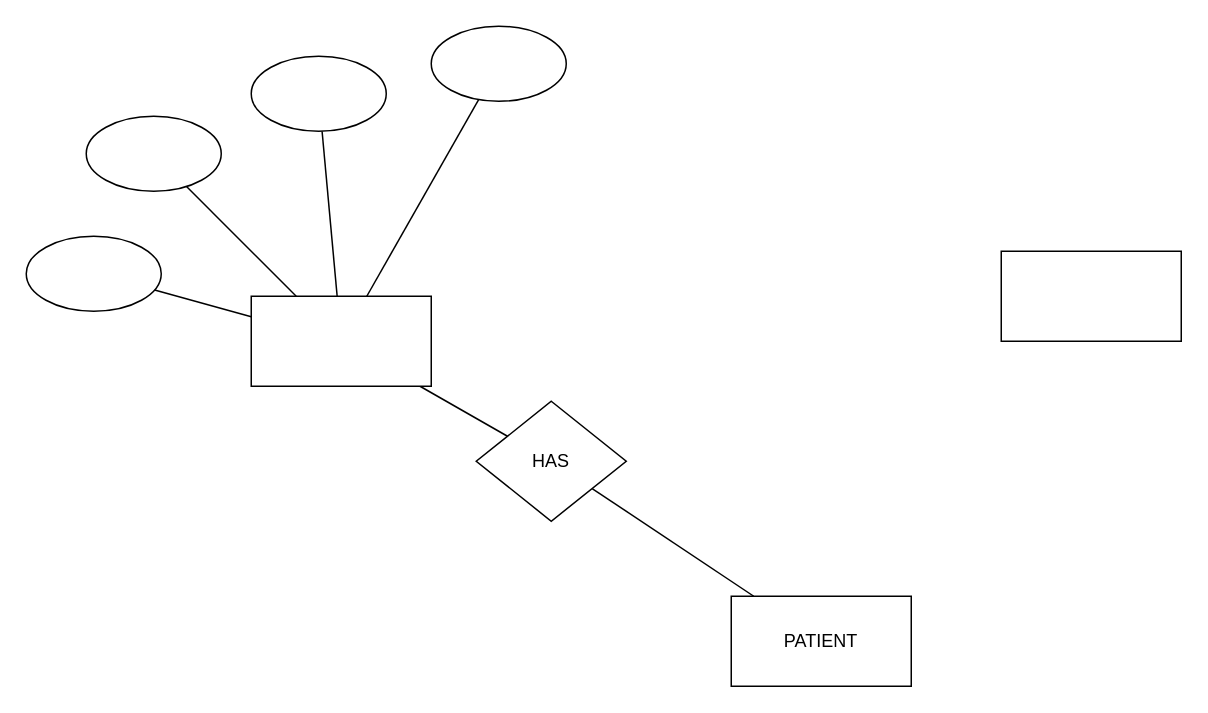
Image size: 1208x713. Some labels were removed from this diagram. Here are the shapes that lost their labels. From the top down, the box of each, then its label:
(1000, 250, 1181, 341): PHARMACY
(250, 295, 431, 386): DOCTOR
